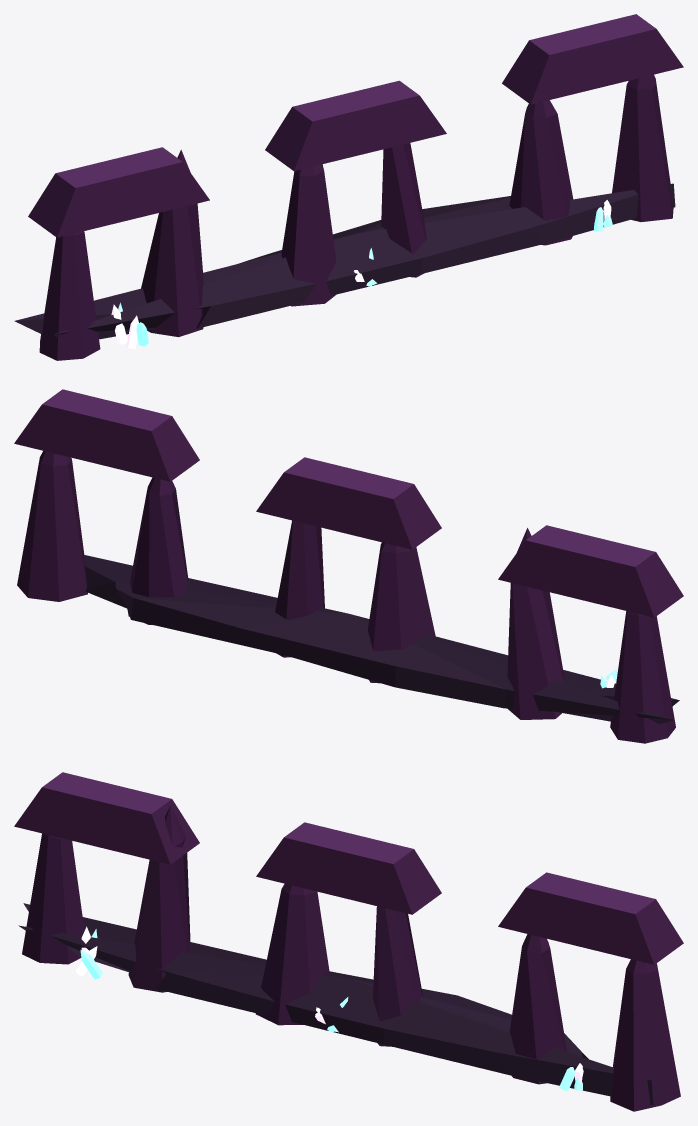
File: W4_Far_Arches.fbx
The picture shows the model from 3 angles, top to bottom: view 1: azimuth 30°, elevation 25°; view 2: azimuth 150°, elevation 25°; view 3: azimuth 330°, elevation 25°; orthographic projection. The views are drawn at different scales.
Parts seen in each view (by area): view 1: W4_Far_Arches; view 2: W4_Far_Arches; view 3: W4_Far_Arches.
Part boxes in pixels (<box>): W4_Far_Arches: <box>14,14,683,360</box>; W4_Far_Arches: <box>14,389,683,743</box>; W4_Far_Arches: <box>14,772,683,1111</box>.
Size of the model in its own units: 465 by 127 by 61.4.
